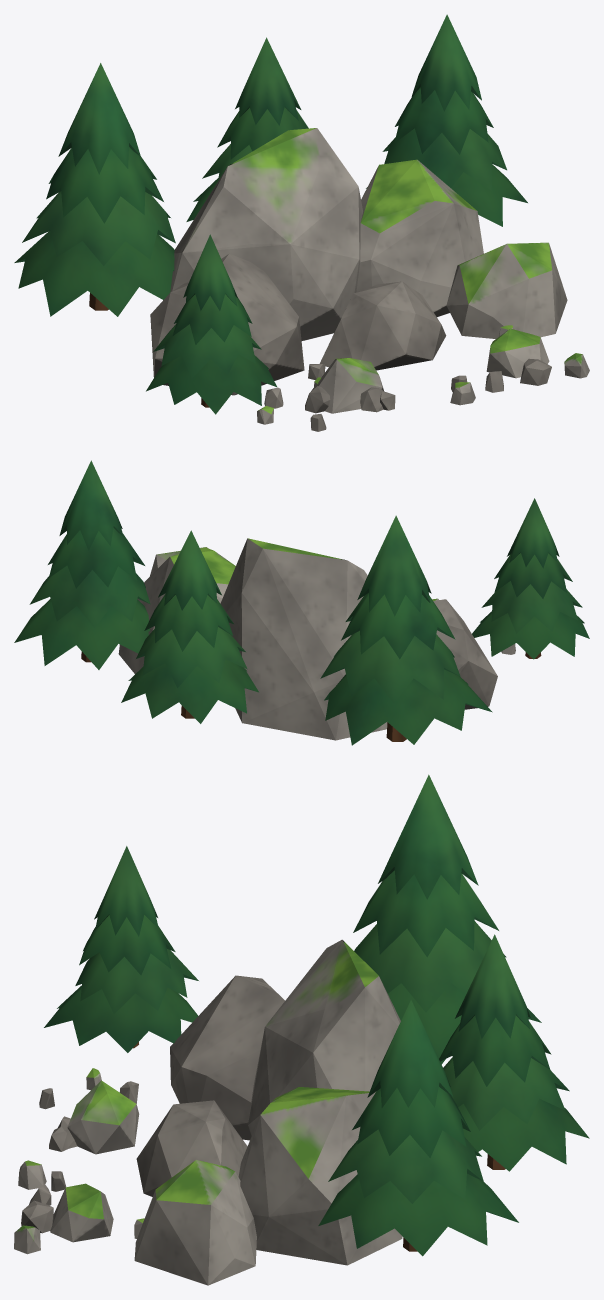
File: crag.glb
The picture shows the model from 3 angles, top to bottom: view 1: azimuth 30°, elevation 25°; view 2: azimuth 150°, elevation 25°; view 3: azimuth 270°, elevation 25°; orthographic projection. The views are drawn at different scales.
Visible parts, largest first — view 1: crag; view 2: crag; view 3: crag.
Part boxes in pixels (box(x1,y1,x2,y2)): crag: box(14, 14, 589, 431); crag: box(14, 460, 589, 745); crag: box(14, 774, 589, 1285).
Bounding box in the file's own units: 1.24 × 0.6371 × 1.11.
1 material, 1 textured.
